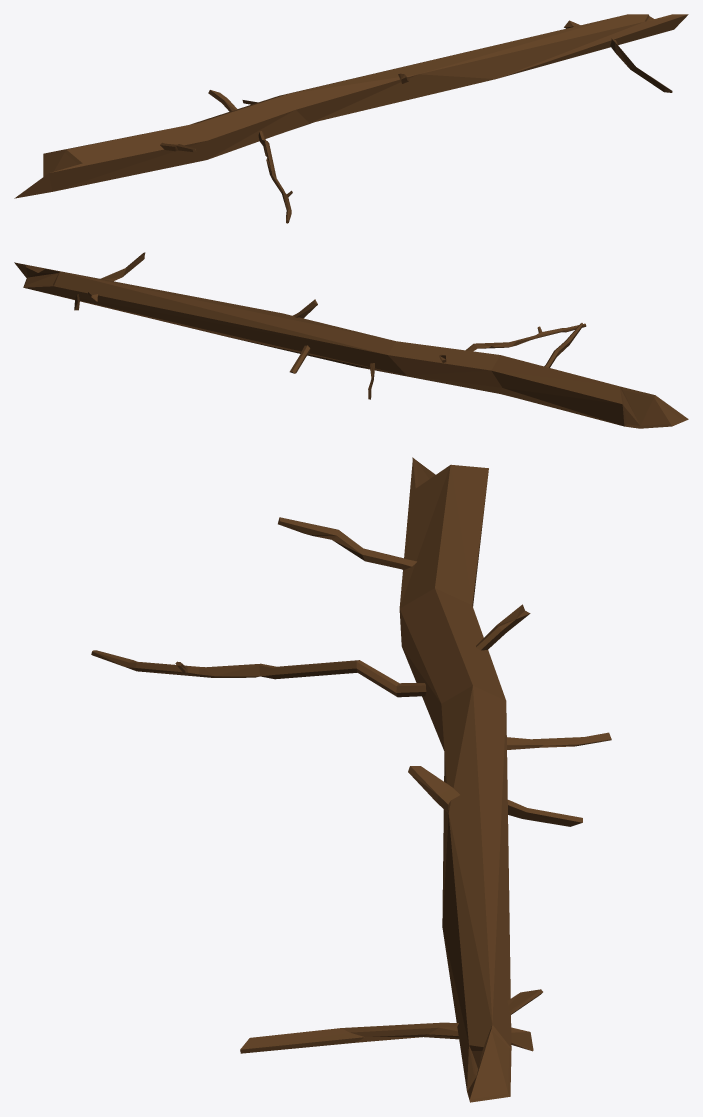
The model's file is tree-spruce-fallen-a.gltf.
3 views of the same model, one above another, from view 1: azimuth 30°, elevation 25°; view 2: azimuth 150°, elevation 25°; view 3: azimuth 270°, elevation 25° (orthographic). The views are drawn at different scales.
Parts seen in each view (by area): view 1: tree-spruce-fallen-a; view 2: tree-spruce-fallen-a; view 3: tree-spruce-fallen-a.
Part boxes in pixels (left/top/right/bottom): tree-spruce-fallen-a: left=14, top=14, right=688, bottom=223; tree-spruce-fallen-a: left=14, top=252, right=688, bottom=428; tree-spruce-fallen-a: left=91, top=457, right=611, bottom=1102.
Bounding box in the file's own units: 0.0712 × 0.0054 × 0.0243.
